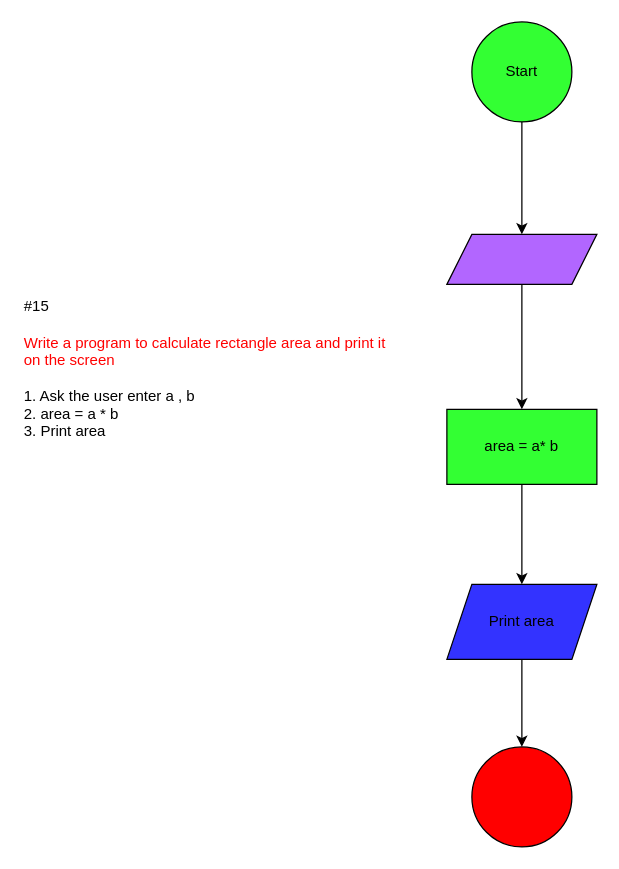
Some shapes in this 619 by 869 pixel diagram are drawn without their labels. Here are the shapes that lost their labels. From the top down, the centre of each, then its label:
At point (521, 258): "Read a Read b".
At point (521, 796): "End".
